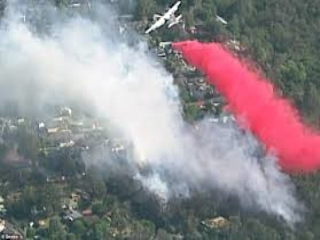smoke: (2, 20, 174, 194), (144, 114, 252, 203)
